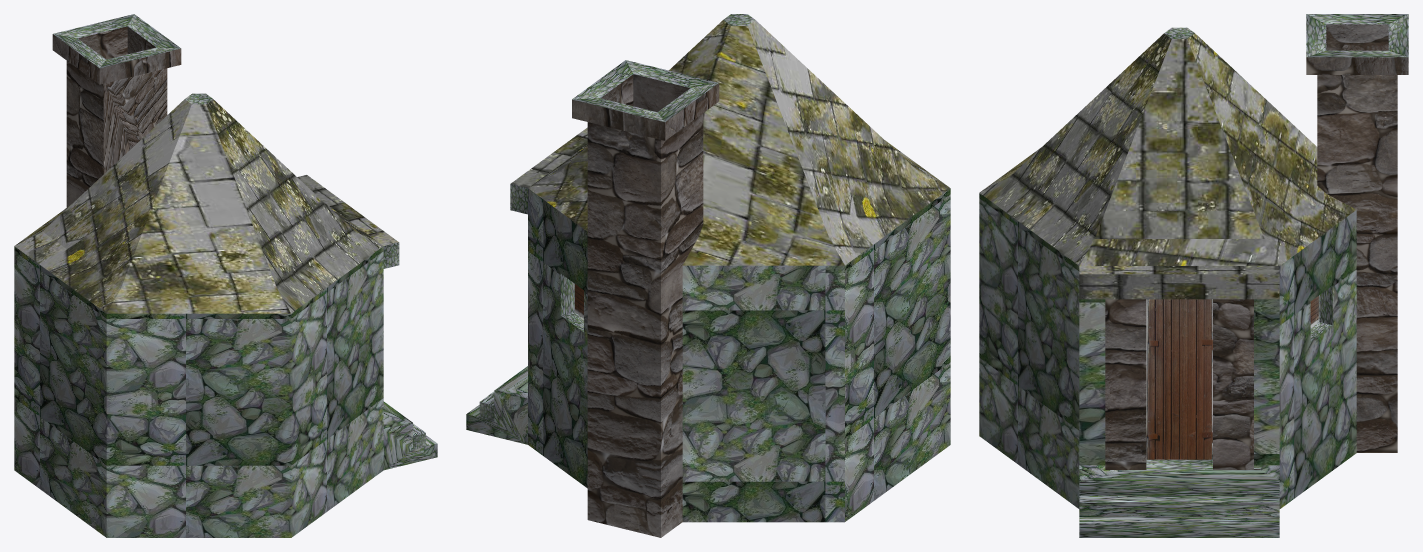
Rendered from HagridsHut.fbx.
3 views of the same model, side by side, from view 1: azimuth 30°, elevation 25°; view 2: azimuth 150°, elevation 25°; view 3: azimuth 270°, elevation 25° (orthographic). The views are drawn at different scales.
Parts seen in each view (by area): view 1: HagridsHut; view 2: HagridsHut; view 3: HagridsHut.
Boxes of the visible parts, x1=… form: HagridsHut: x1=14, y1=14, x2=437, y2=537; HagridsHut: x1=466, y1=14, x2=950, y2=537; HagridsHut: x1=979, y1=14, x2=1408, y2=537.
Bounding box in the file's own units: 1035 × 1072 × 1110.
4 materials, 4 textured.
